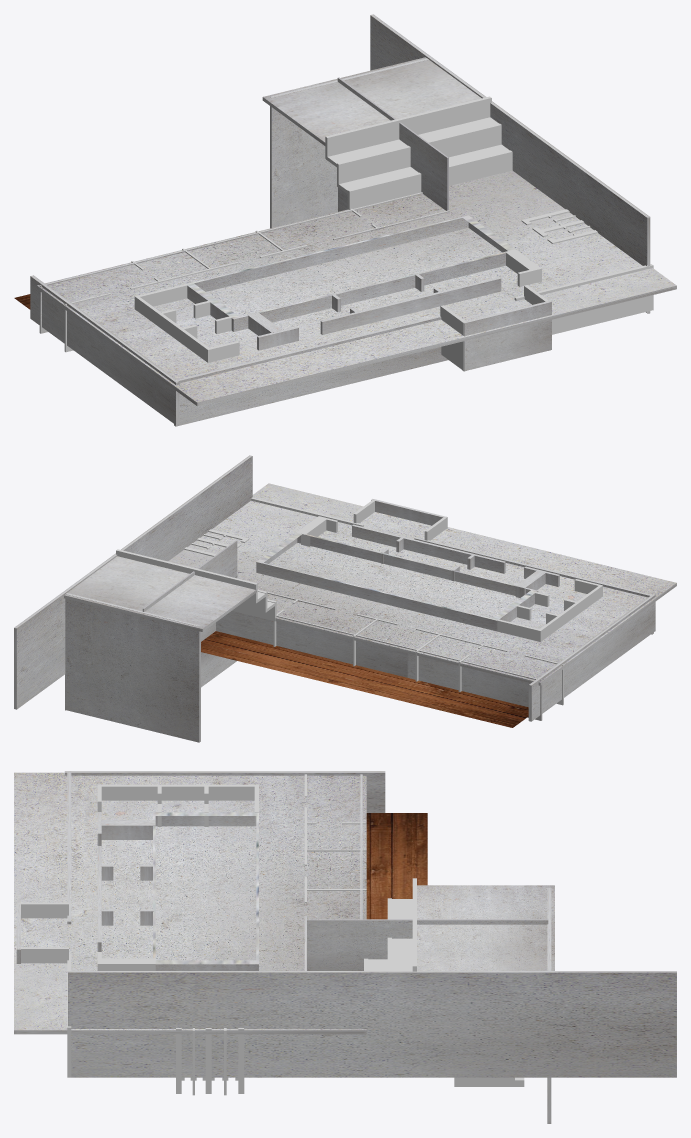
File: Stage2.fbx
3 renders of one model, top to bottom at view 1: azimuth 30°, elevation 25°; view 2: azimuth 150°, elevation 25°; view 3: azimuth 270°, elevation 25°, orthographic. The views are drawn at different scales.
Visible parts, largest first — view 1: 立方体.049, 立方体.025, 立方体.050, 立方体.023, 立方体.027, 立方体.026, 立方体.024, 立方体.047, 立方体.055, 立方体.054, 立方体.003, 立方体.051 (+9 smaller); view 2: 立方体.049, 立方体.027, 立方体.025, 立方体.022, 地面, 立方体.050, 立方体.023, 立方体.026, 立方体.003, 立方体.037, 立方体.055, 立方体.028 (+6 smaller); view 3: 立方体.025, 立方体.049, 立方体.050, 地面, 立方体.003, 立方体.023, 立方体.028, 立方体.026, 立方体.053, 立方体.039, 立方体.045, 立方体.046 (+4 smaller).
Part boxes in pixels (left/top/right/bottom): 立方体.049: left=37, top=170, right=676, bottom=406; 立方体.025: left=370, top=14, right=650, bottom=313; 立方体.050: left=262, top=57, right=481, bottom=145; 立方体.023: left=186, top=215, right=514, bottom=331; 立方体.027: left=270, top=58, right=428, bottom=228; 立方体.026: left=30, top=275, right=179, bottom=425; 立方体.024: left=174, top=312, right=455, bottom=426; 立方体.047: left=462, top=300, right=551, bottom=371; 立方体.055: left=325, top=96, right=491, bottom=158; 立方体.054: left=337, top=123, right=501, bottom=186; 立方体.003: left=333, top=77, right=449, bottom=240; 立方体.051: left=347, top=150, right=512, bottom=209; 立方体.049: left=168, top=483, right=676, bottom=685; 立方体.027: left=65, top=593, right=200, bottom=742; 立方体.025: left=14, top=455, right=252, bottom=709; 立方体.022: left=216, top=611, right=542, bottom=720; 地面: left=201, top=631, right=528, bottom=727; 立方体.050: left=64, top=556, right=256, bottom=631; 立方体.023: left=256, top=532, right=538, bottom=631; 立方体.026: left=528, top=594, right=655, bottom=721; 立方体.003: left=142, top=540, right=335, bottom=687; 立方体.037: left=352, top=524, right=505, bottom=573; 立方体.055: left=116, top=549, right=257, bottom=603; 立方体.028: left=538, top=585, right=602, bottom=641; 立方体.025: left=67, top=971, right=676, bottom=1077; 立方体.049: left=14, top=772, right=366, bottom=1034; 立方体.050: left=417, top=885, right=554, bottom=970; 地面: left=366, top=813, right=427, bottom=919; 立方体.003: left=304, top=916, right=548, bottom=970; 立方体.023: left=153, top=812, right=258, bottom=970; 立方体.028: left=97, top=784, right=258, bottom=800; 立方体.026: left=64, top=771, right=385, bottom=812; 立方体.053: left=392, top=899, right=412, bottom=970; 立方体.039: left=100, top=820, right=155, bottom=839; 立方体.045: left=17, top=902, right=68, bottom=918; 立方体.046: left=18, top=947, right=68, bottom=963.
Bounding box in the file's own units: 5139 × 1464 × 5559.
2 materials, 2 textured.
